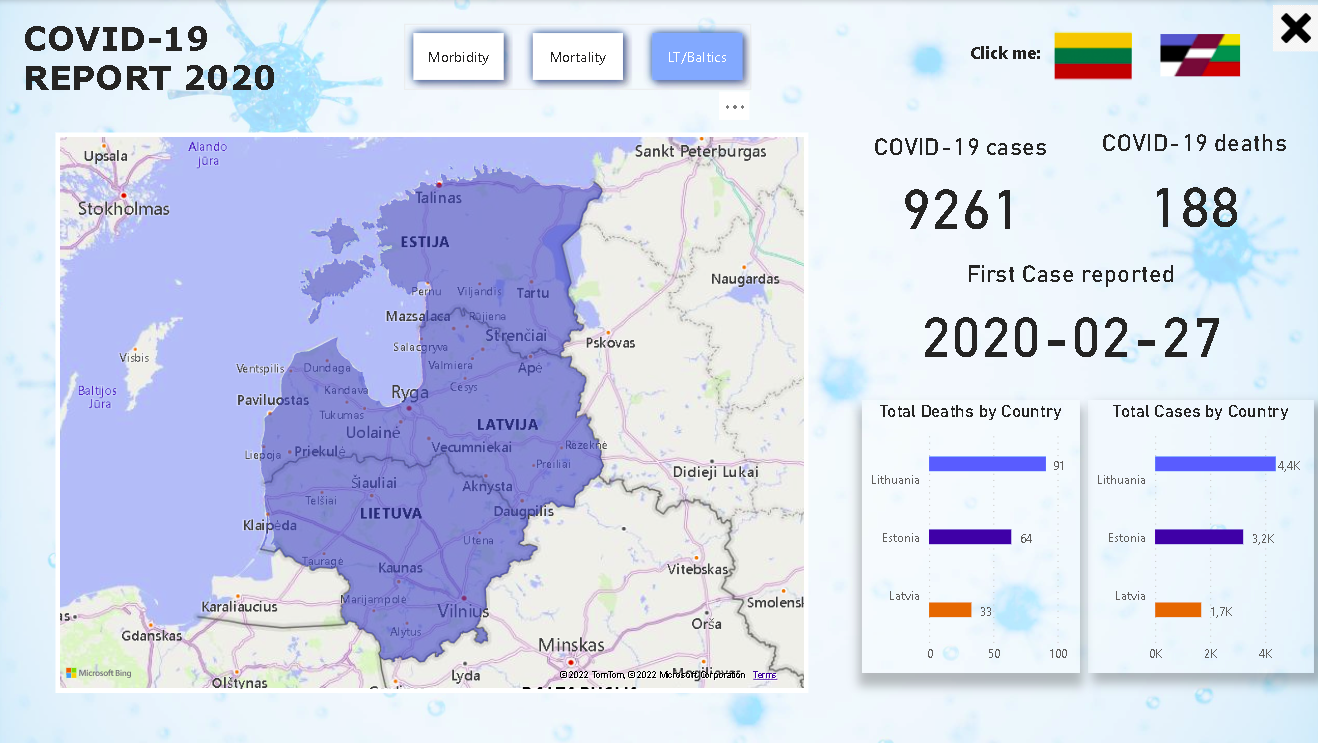

The page's visual inventory and layout, read from the dashboard file:
{"tool":"powerbi","page":{"name":"LT/Baltics","canvas":[1280,720],"ordinal":2},"visuals":[{"type":"textbox","box":[19.5,12.5,300.8,115.6],"z":0},{"type":"filledMap","fields":{"Category":["WHO-COVID-19-global-data.Country"]},"box":[54.9,127.7,726.5,541.1],"z":1000},{"type":"card","title":"COVID-19 cases","fields":{"Values":["Sum(WHO-COVID-19-global-data.New_cases)"]},"box":[820.7,127.5,215.4,107.7],"z":2000},{"type":"card","title":"COVID-19 deaths","fields":{"Values":["Sum(WHO-COVID-19-global-data.New_deaths)"]},"box":[1056.7,124.4,196,110.8],"z":3000},{"type":"clusteredBarChart","title":"Total Cases by Country","fields":{"Category":["WHO-COVID-19-global-data.Country"],"Y":["Sum(WHO-COVID-19-global-data.New_cases)"],"Series":["WHO-COVID-19-global-data.Country"]},"box":[1051.6,385.8,217.3,263.2],"z":4000},{"type":"clusteredBarChart","title":"Total Deaths by Country","fields":{"Category":["WHO-COVID-19-global-data.Country"],"Y":["Sum(WHO-COVID-19-global-data.New_deaths)"],"Series":["WHO-COVID-19-global-data.Country"]},"box":[832.9,385.8,210.3,263.2],"z":5000},{"type":"card","title":"First Case reported","fields":{"Values":["Calculated.First case in Baltics"]},"box":[880.3,251.3,310.4,108.5],"z":6000},{"type":"image","box":[1116.8,9.6,86.8,86.8],"z":7000},{"type":"image","box":[1010.7,19.3,91.7,68.7],"z":8000},{"type":"pageNavigator","box":[391.4,23.3,335.1,63.2],"z":9000},{"type":"image","box":[1225.7,0,54.3,54.3],"z":11000},{"type":"textbox","box":[908.1,33.8,102.5,42.2],"z":11001}]}

Visuals, with their boxes in screenshot pixels (x1, y1, x2, y2), scaled from the page's 1280x720 canvas onto the 1318x743 screenshot:
textbox: 20:13:330:132
filledMap - WHO-COVID-19-global-data.Country: 57:132:805:690
"COVID-19 cases" card: 845:132:1067:243
"COVID-19 deaths" card: 1088:128:1290:243
"Total Cases by Country" clusteredBarChart: 1083:398:1307:670
"Total Deaths by Country" clusteredBarChart: 858:398:1074:670
"First Case reported" card: 906:259:1226:371
image: 1150:10:1239:99
image: 1041:20:1135:91
pageNavigator: 403:24:748:89
image: 1262:0:1317:56
textbox: 935:35:1041:78
